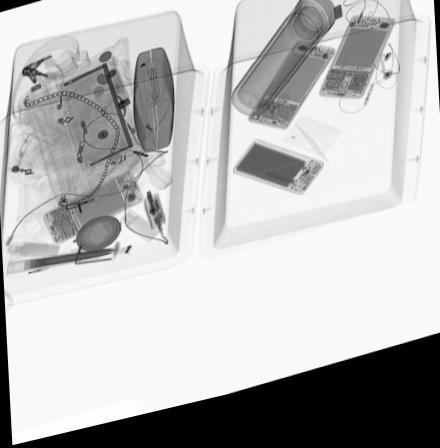Powerbank: (230, 147, 330, 210)
